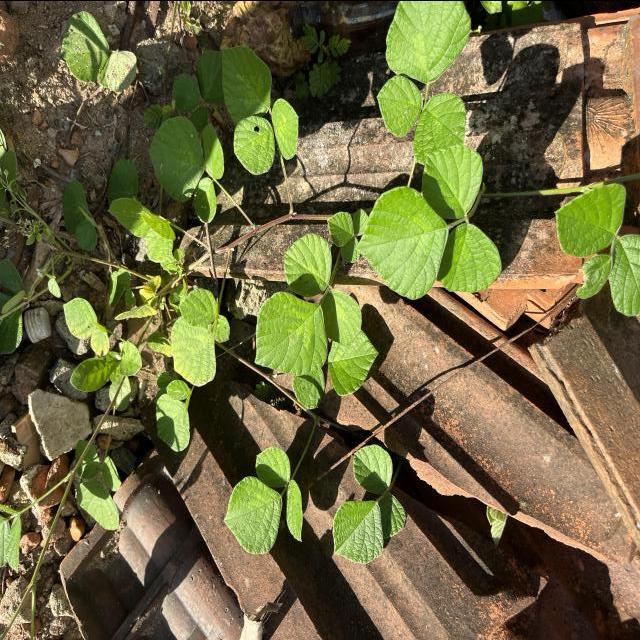Pseudarthria viscida: (354, 142, 504, 300), (254, 230, 364, 378), (221, 44, 301, 176), (331, 442, 407, 564), (222, 445, 305, 555), (147, 114, 225, 224)
